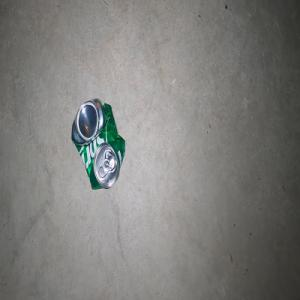SodaCan: (71, 97, 125, 190)
